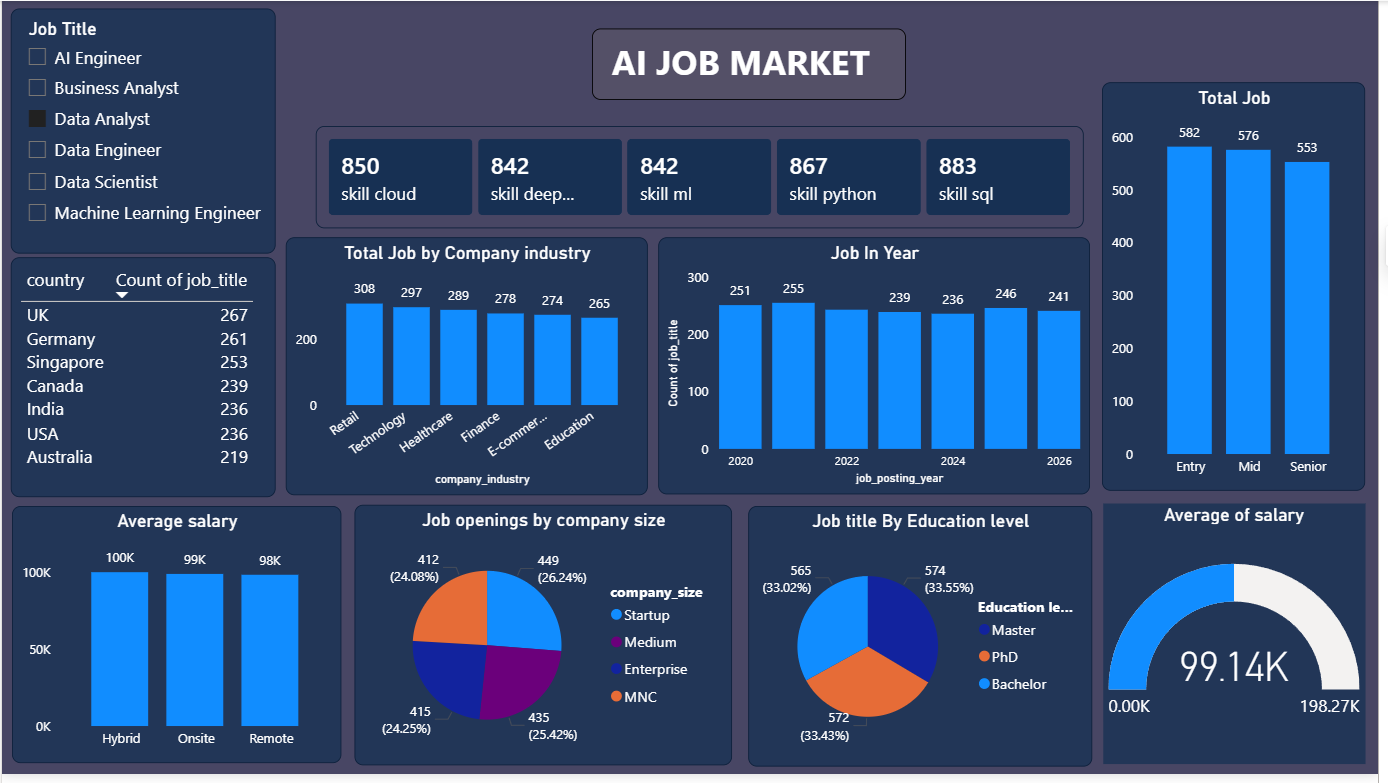

The page's visual inventory and layout, read from the dashboard file:
{"tool":"powerbi","page":{"name":"Page 1","canvas":[1280,720],"ordinal":0},"visuals":[{"type":"slicer","fields":{"Values":["AI Job Market Dataset.job_title"]},"box":[8.4,7.2,246.1,228],"z":0},{"type":"gauge","fields":{"Y":["Avg(AI Job Market Dataset.salary)"]},"box":[1024.3,466.9,243.7,242.5],"z":1000},{"type":"columnChart","title":"Job In Year","fields":{"Category":["AI Job Market Dataset.job_posting_year"],"Y":["CountNonNull(AI Job Market Dataset.job_title)"]},"box":[610.5,219.6,401.7,238.9],"z":2000},{"type":"tableEx","title":"Job Title by Country","fields":{"Values":["AI Job Market Dataset.country","CountNonNull(AI Job Market Dataset.job_title)"]},"box":[8.4,238.9,246.1,223.2],"z":3000},{"type":"columnChart","title":"Total Job by Company industry","fields":{"Category":["AI Job Market Dataset.company_industry"],"Y":["CountNonNull(AI Job Market Dataset.job_title)"]},"box":[264.2,219.6,336.6,240.1],"z":4000},{"type":"columnChart","title":"Total Job","fields":{"Category":["AI Job Market Dataset.experience_level"],"Y":["CountNonNull(AI Job Market Dataset.job_title)"]},"box":[1023.1,76,244.9,380],"z":5000},{"type":"pieChart","title":"Job title By Education level","fields":{"Y":["CountNonNull(AI Job Market Dataset.job_title)"],"Category":["AI Job Market Dataset.education_level"]},"box":[693.7,469.3,319.7,242.5],"z":6000},{"type":"pieChart","title":"Job openings by company size","fields":{"Y":["CountNonNull(AI Job Market Dataset.job_openings)"],"Category":["AI Job Market Dataset.company_size"]},"box":[328.2,468.1,351.1,242.5],"z":7000},{"type":"columnChart","title":"Average salary ","fields":{"Y":["Avg(AI Job Market Dataset.salary)"],"Category":["AI Job Market Dataset.remote_type"]},"box":[9.7,469.3,306.4,238.9],"z":8000},{"type":"cardVisual","fields":{"Data":["AI Job Market Dataset.count cloud skill","AI Job Market Dataset.skill deep learning","AI Job Market Dataset.skill ml","AI Job Market Dataset.skill python","AI Job Market Dataset.skill sql"]},"box":[292,115.8,714.2,95.3],"z":9000},{"type":"textbox","box":[547.7,9.3,291.9,66.3],"z":10000}]}

Visuals, with their boxes in screenshot pixels (x1, y1, x2, y2), scaled from the page's 1280x720 canvas onto the 1388x783 screenshot:
slicer - AI Job Market Dataset.job_title: x1=9 y1=8 x2=276 y2=256
gauge - Avg(AI Job Market Dataset.salary): x1=1111 y1=508 x2=1375 y2=771
"Job In Year" columnChart: x1=662 y1=239 x2=1098 y2=499
"Job Title by Country" tableEx: x1=9 y1=260 x2=276 y2=503
"Total Job by Company industry" columnChart: x1=286 y1=239 x2=651 y2=500
"Total Job" columnChart: x1=1109 y1=83 x2=1375 y2=496
"Job title By Education level" pieChart: x1=752 y1=510 x2=1099 y2=774
"Job openings by company size" pieChart: x1=356 y1=509 x2=737 y2=773
"Average salary " columnChart: x1=11 y1=510 x2=343 y2=770
cardVisual - AI Job Market Dataset.count cloud skill x AI Job Market Dataset.skill deep learning: x1=317 y1=126 x2=1091 y2=230
textbox: x1=594 y1=10 x2=910 y2=82
